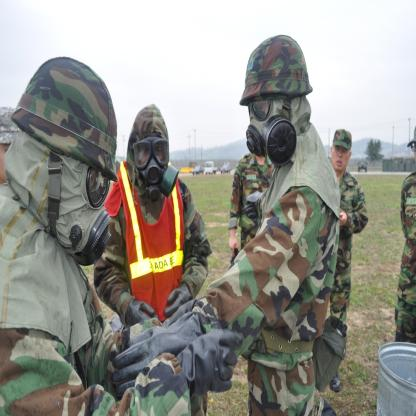Helmet: (10, 55, 119, 184), (242, 35, 320, 171)
